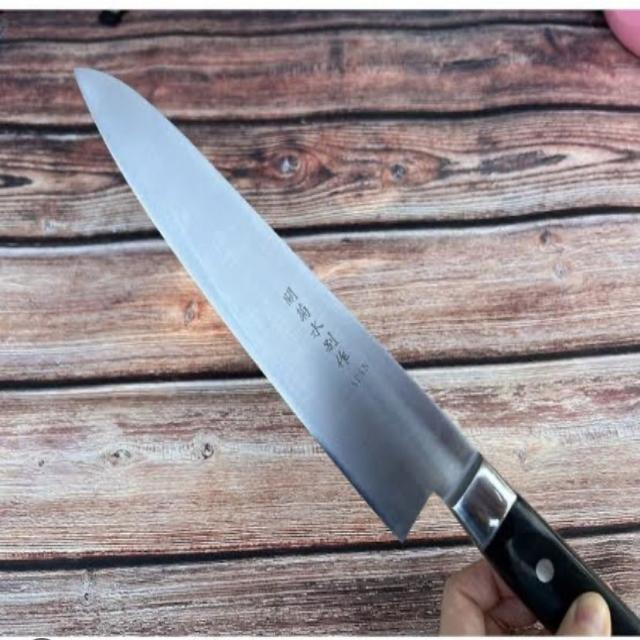Knife: (59, 57, 640, 634)
